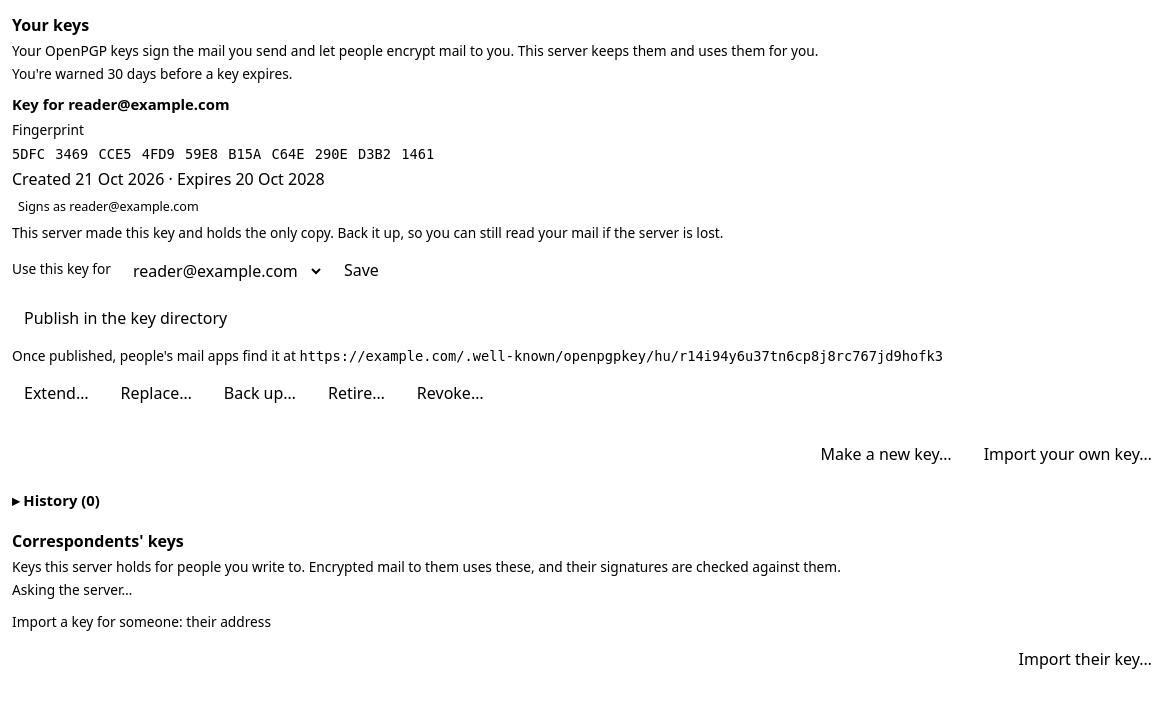
Scenario: your keys › publishing sends wkdPublished:true, then reloads and says so
The image size is (1176, 720).
Click the button "Publish in the key directory". click: [126, 318]
box: [12, 299, 239, 338]
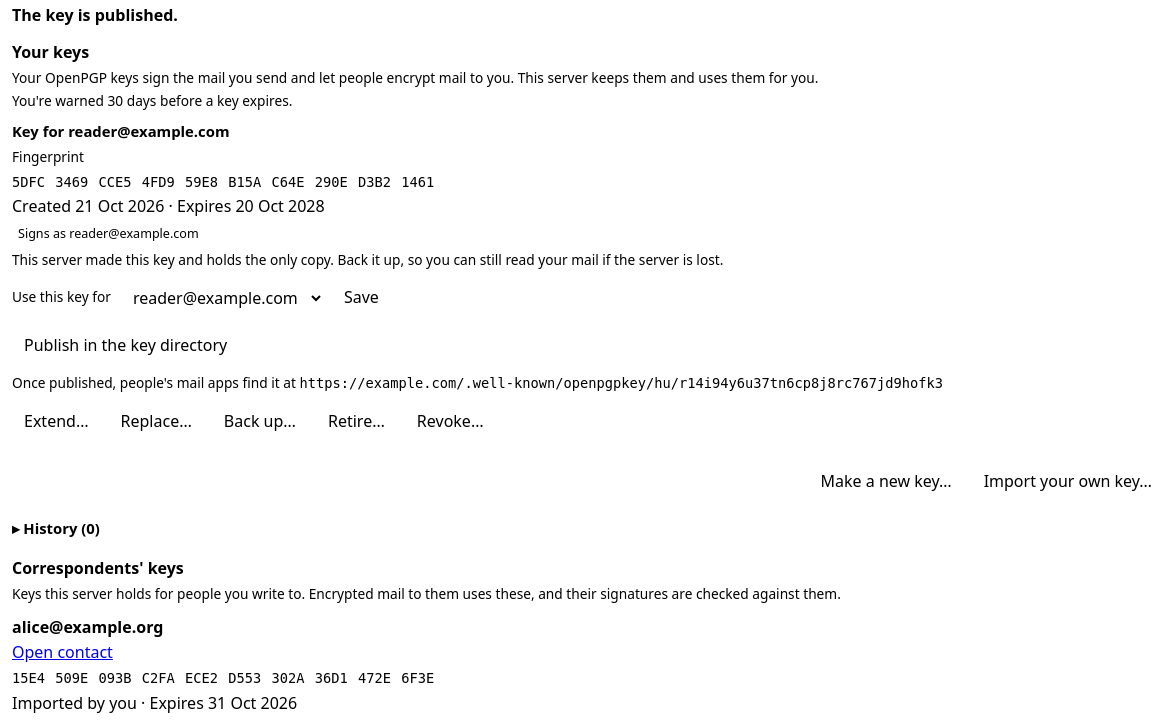
Check: the message with class "setting-done" reads "The key is published.", box [12, 4, 178, 26]
